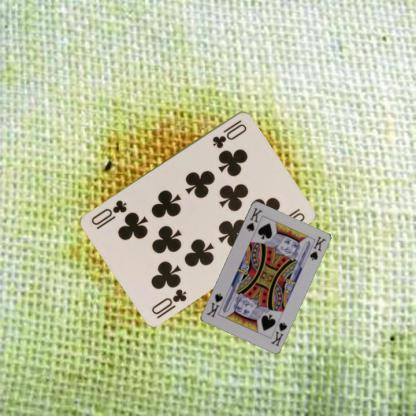10c: (149, 286, 188, 320), (210, 116, 248, 150)
Ks: (244, 205, 264, 232), (268, 320, 288, 347)
